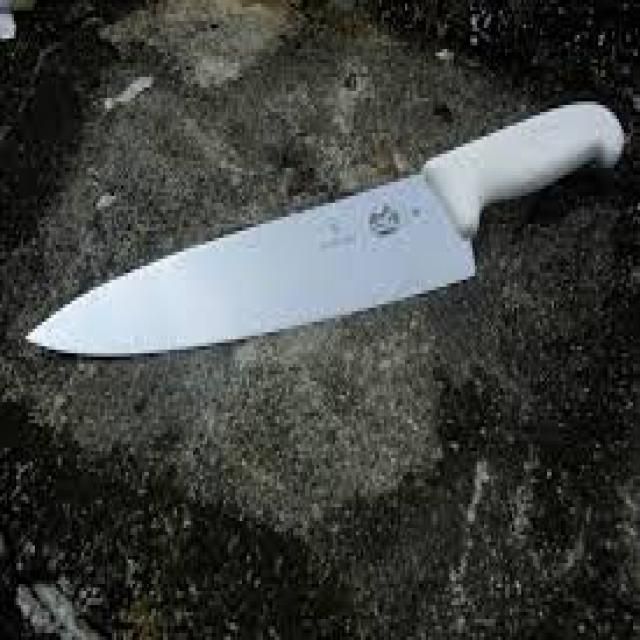Knife: (26, 105, 624, 357)
